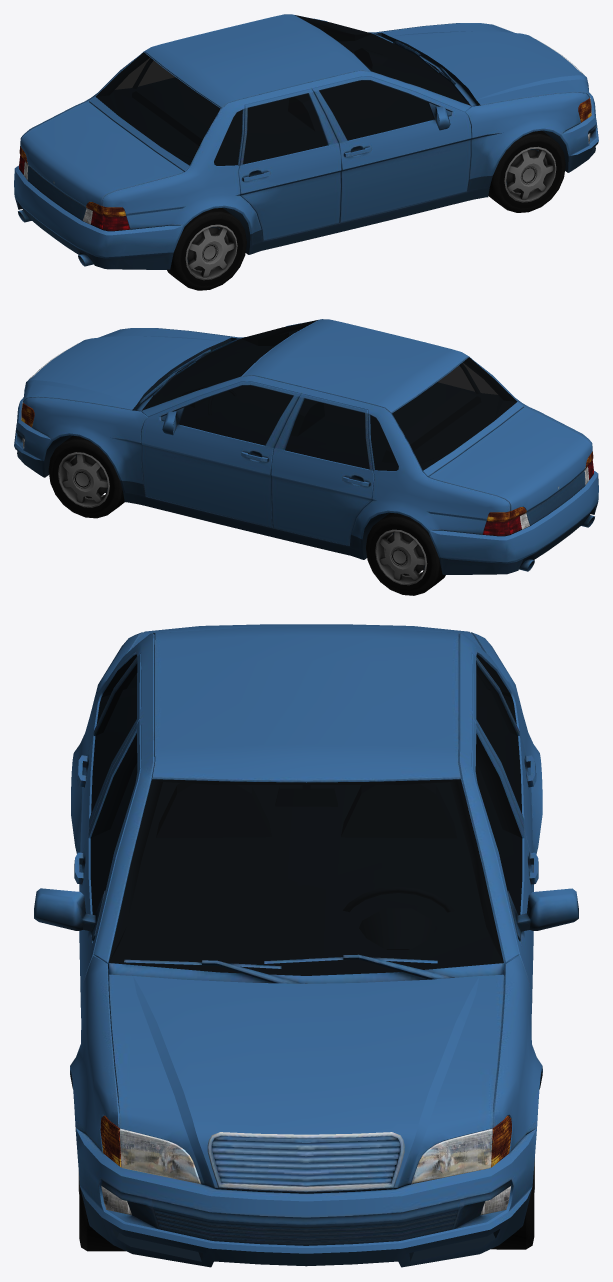
The model's file is sedan_blue.glb.
3 views of the same model, one above another, from view 1: azimuth 30°, elevation 25°; view 2: azimuth 150°, elevation 25°; view 3: azimuth 270°, elevation 25° (orthographic). The views are drawn at different scales.
Visible parts, largest first — view 1: Sedan Body; view 2: Sedan Body; view 3: Sedan Body.
Part boxes in pixels (x1,y1,x2,y2): Sedan Body: (14,14,598,290); Sedan Body: (14,319,598,595); Sedan Body: (34,624,578,1267).
Bounding box in the file's own units: 4.8 × 1.48 × 2.14.
4 materials, 3 textured.
